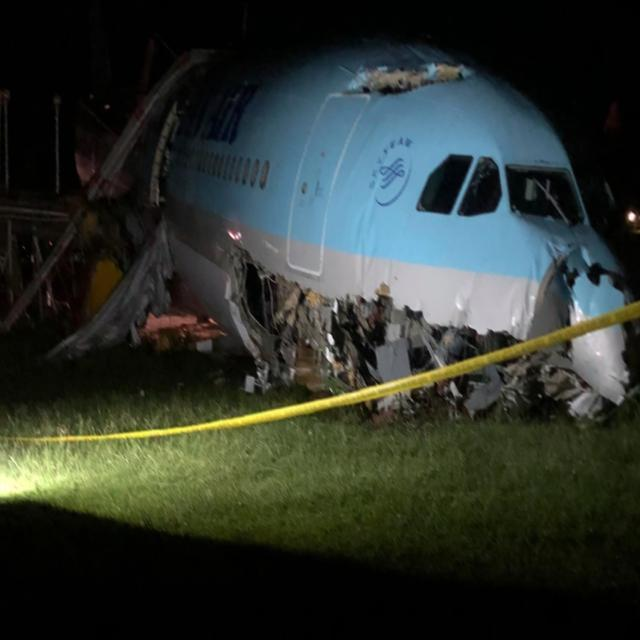crack: (344, 57, 480, 111)
dent: (353, 169, 394, 296)
